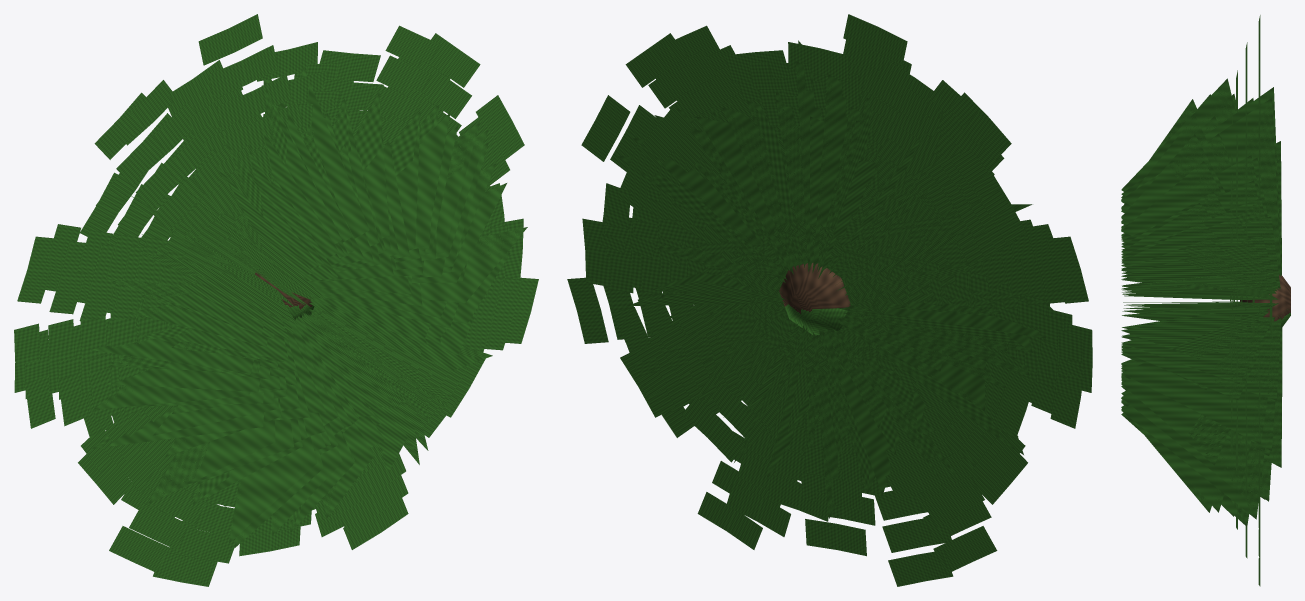
The model's file is veg_ground_fern_01.glb.
3 views of the same model, side by side, from view 1: azimuth 30°, elevation 25°; view 2: azimuth 150°, elevation 25°; view 3: azimuth 270°, elevation 25° (orthographic). The views are drawn at different scales.
Visible parts, largest first — view 1: veg_ground_fern_01; view 2: veg_ground_fern_01; view 3: veg_ground_fern_01.
Part boxes in pixels (x1,y1,x2,y2): veg_ground_fern_01: (14, 14, 538, 586); veg_ground_fern_01: (567, 14, 1092, 586); veg_ground_fern_01: (1121, 15, 1290, 586).
Bounding box in the file's own units: 2.12 × 2.17 × 0.65.
Materials: 1 (1 with a texture image).
